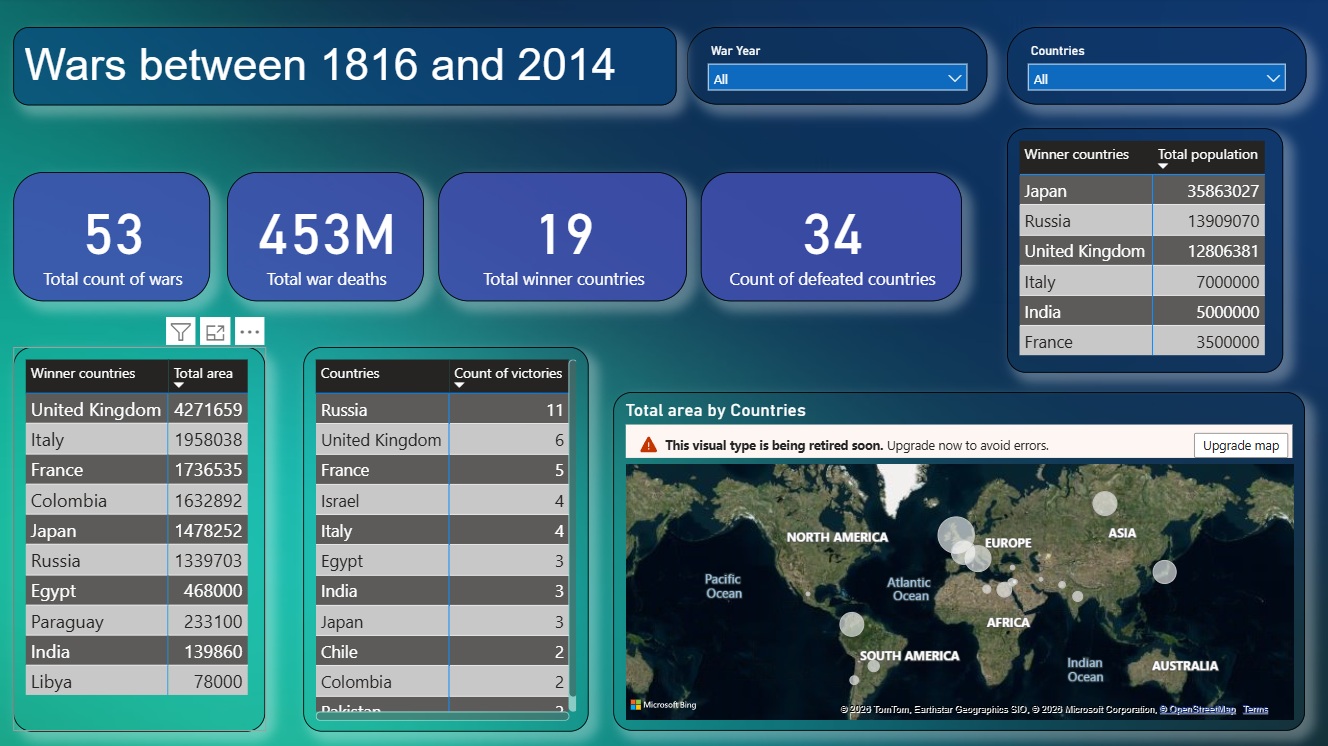

Layout of this report page (visuals, bound fields, positions):
{"tool":"powerbi","page":{"name":"Wars between 1816 and 2014","canvas":[1280,720],"ordinal":0},"visuals":[{"type":"map","fields":{"Category":["war_list_1816_2010.STATENAME"],"Size":["Sum(conquest_since_1816-1945.AREA)"]},"box":[591.2,379,662.9,324.9],"z":0},{"type":"card","title":"All-out war in 1816","fields":{"Values":["CountNonNull(conquest_since_1816-1945.WAR_YEAR)"]},"box":[16.1,168.3,188.8,124.4],"z":1000},{"type":"card","fields":{"Values":["Sum(war_list_1816_2010.TOTAL_BATTLE_DEATHS)"]},"box":[221,168.3,188.8,124.4],"z":2000},{"type":"card","fields":{"Values":["Count(conquest_since_1816-1945.COUNTRY_GAINING)"]},"box":[422.9,168.3,238.5,124.4],"z":3000},{"type":"card","fields":{"Values":["Count(conquest_since_1816-1945.COUNTRY_LOSING)"]},"box":[674.6,168.3,250.2,124.4],"z":4000},{"type":"pivotTable","fields":{"Rows":["conquest_since_1816-1945.COUNTRY_GAINING"],"Values":["Sum(conquest_since_1816-1945.AREA)"]},"box":[16.1,335.1,241.5,368.8],"z":5000},{"type":"pivotTable","fields":{"Rows":["conquest_since_1816-1945.COUNTRY_GAINING"],"Values":["Sum(conquest_since_1816-1945.POP)"]},"box":[968.8,125.9,264.9,234.1],"z":6000},{"type":"slicer","fields":{"Values":["conquest_since_1816-1945.WAR_YEAR"]},"box":[661.5,29.3,288.3,74.6],"z":7000},{"type":"textbox","box":[15.6,29.1,636,74.8],"z":8000},{"type":"slicer","fields":{"Values":["conquest_since_1816-1945.COUNTRY_GAINING"]},"box":[968.8,29.3,286.8,74.6],"z":9000},{"type":"pivotTable","fields":{"Rows":["conquest_since_1816-1945.COUNTRY_GAINING"],"Values":["CountNonNull(conquest_since_1816-1945.COUNTRY_GAINING)"]},"box":[294.1,335.1,273.7,368.8],"z":10000}]}

Visuals, with their boxes in screenshot pixels (x1, y1, x2, y2), scaled from the page's 1280x720 canvas onto the 1328x746 screenshot:
map - war_list_1816_2010.STATENAME x Sum(conquest_since_1816-1945.AREA): detection(613, 393, 1301, 729)
"All-out war in 1816" card: detection(17, 174, 213, 303)
card - Sum(war_list_1816_2010.TOTAL_BATTLE_DEATHS): detection(229, 174, 425, 303)
card - Count(conquest_since_1816-1945.COUNTRY_GAINING): detection(439, 174, 686, 303)
card - Count(conquest_since_1816-1945.COUNTRY_LOSING): detection(700, 174, 959, 303)
pivotTable - conquest_since_1816-1945.COUNTRY_GAINING x Sum(conquest_since_1816-1945.AREA): detection(17, 347, 267, 729)
pivotTable - conquest_since_1816-1945.COUNTRY_GAINING x Sum(conquest_since_1816-1945.POP): detection(1005, 130, 1280, 373)
slicer - conquest_since_1816-1945.WAR_YEAR: detection(686, 30, 985, 108)
textbox: detection(16, 30, 676, 108)
slicer - conquest_since_1816-1945.COUNTRY_GAINING: detection(1005, 30, 1303, 108)
pivotTable - conquest_since_1816-1945.COUNTRY_GAINING x CountNonNull(conquest_since_1816-1945.COUNTRY_GAINING): detection(305, 347, 589, 729)
